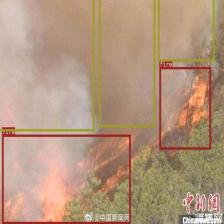fire: (2, 134, 130, 224), (159, 67, 211, 149)
smoke: (0, 0, 94, 131), (98, 0, 154, 126), (157, 0, 214, 61)
